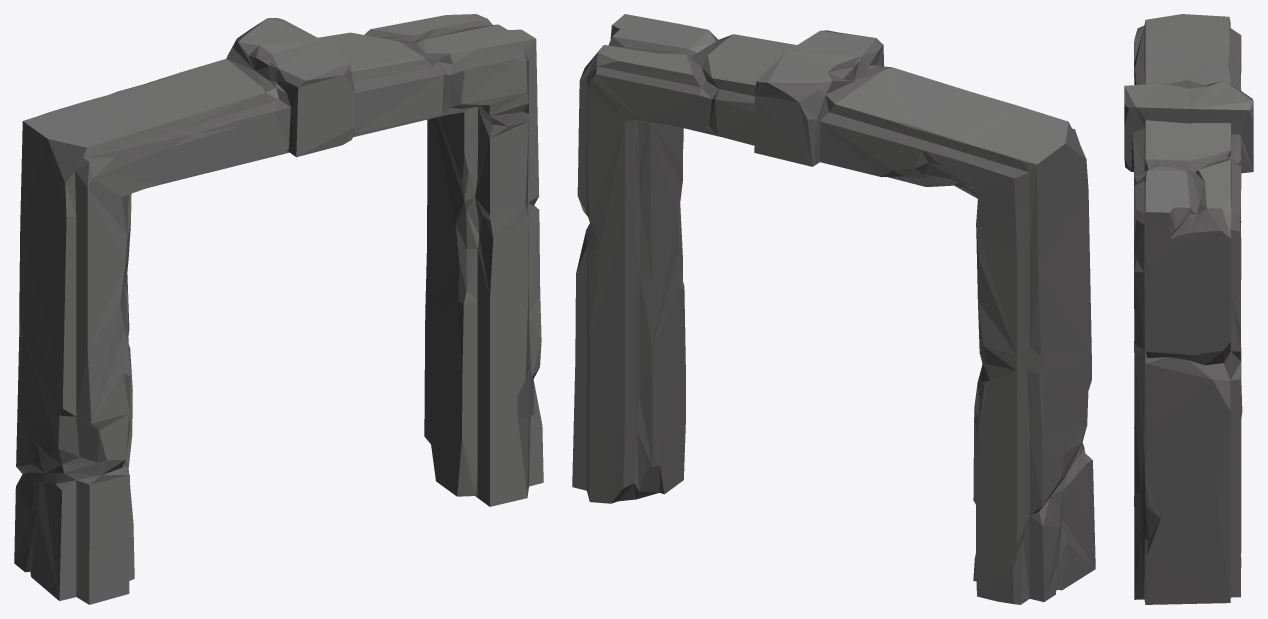
Rendered from SM_Env_Door_Large_Frame_01.FBX.
3 renders of one model, left to right at view 1: azimuth 30°, elevation 25°; view 2: azimuth 150°, elevation 25°; view 3: azimuth 270°, elevation 25°, orthographic. The views are drawn at different scales.
Parts seen in each view (by area): view 1: SM_Env_Door_Large_Frame_01; view 2: SM_Env_Door_Large_Frame_01; view 3: SM_Env_Door_Large_Frame_01.
Boxes of the visible parts, bbox=[...] form: SM_Env_Door_Large_Frame_01: bbox=[14, 14, 543, 604]; SM_Env_Door_Large_Frame_01: bbox=[572, 14, 1095, 604]; SM_Env_Door_Large_Frame_01: bbox=[1124, 14, 1253, 604].
Size of what is drawn, in the model's own units: 594 by 157 by 559.
